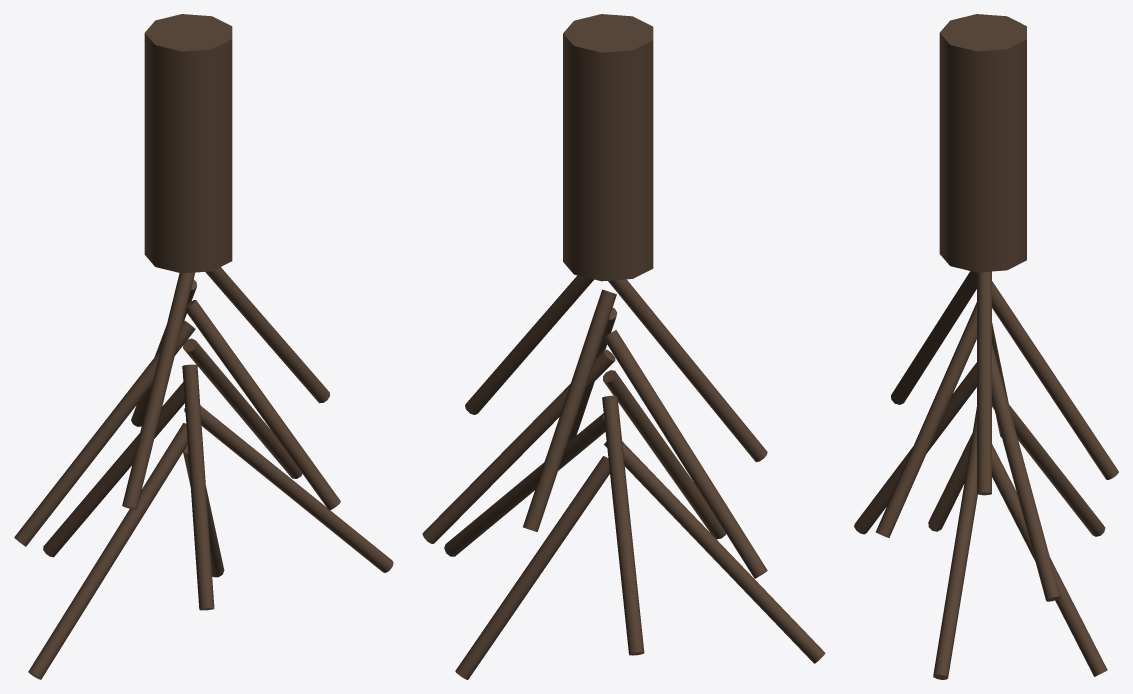
The model's file is catalogue-root-system.glb.
The picture shows the model from 3 angles, left to right: view 1: azimuth 30°, elevation 25°; view 2: azimuth 150°, elevation 25°; view 3: azimuth 270°, elevation 25°; orthographic projection. The views are drawn at different scales.
Bounding box in the file's own units: 0.6545 × 1.04 × 0.4124.
